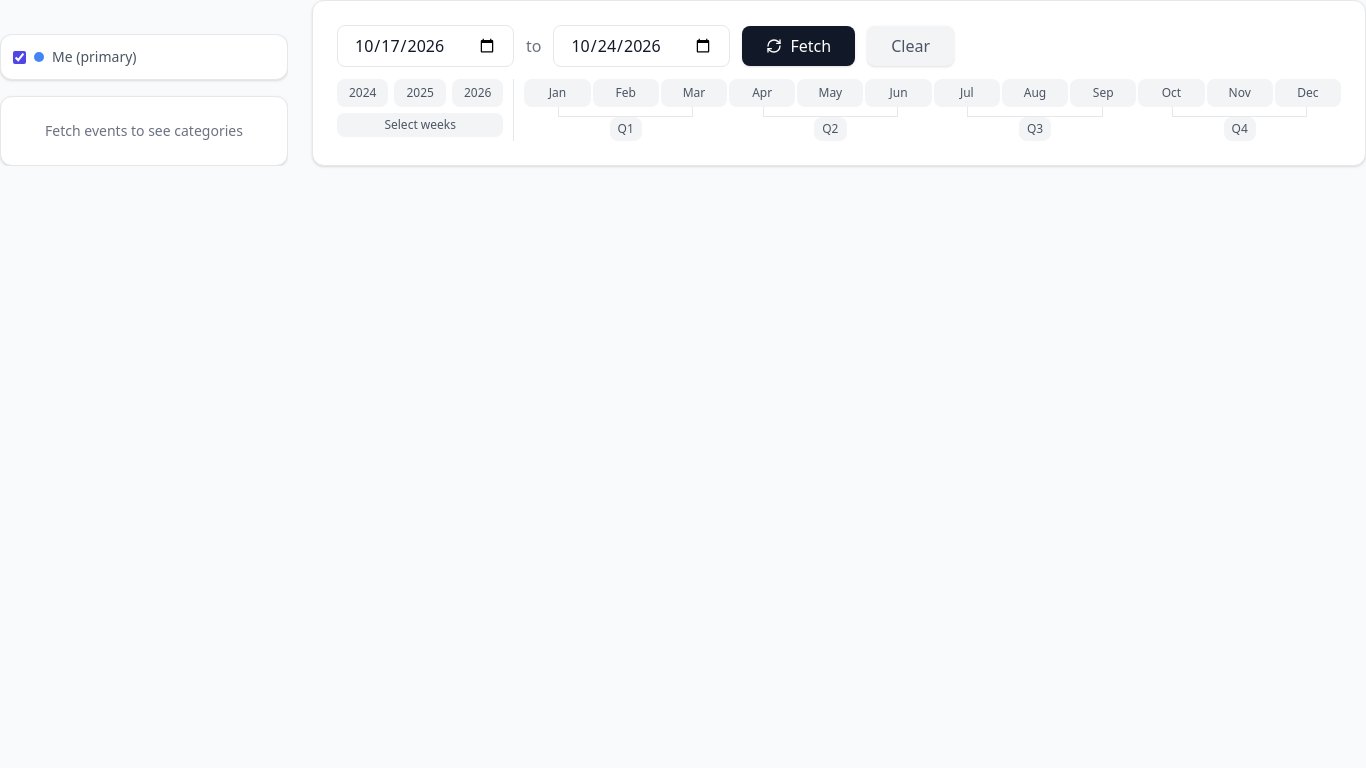
Test case: Dashboard › shows the fetched events with totals, categories and authors
Step 1. Click the button "Fetch" → click(799, 46), box [742,26,855,66]
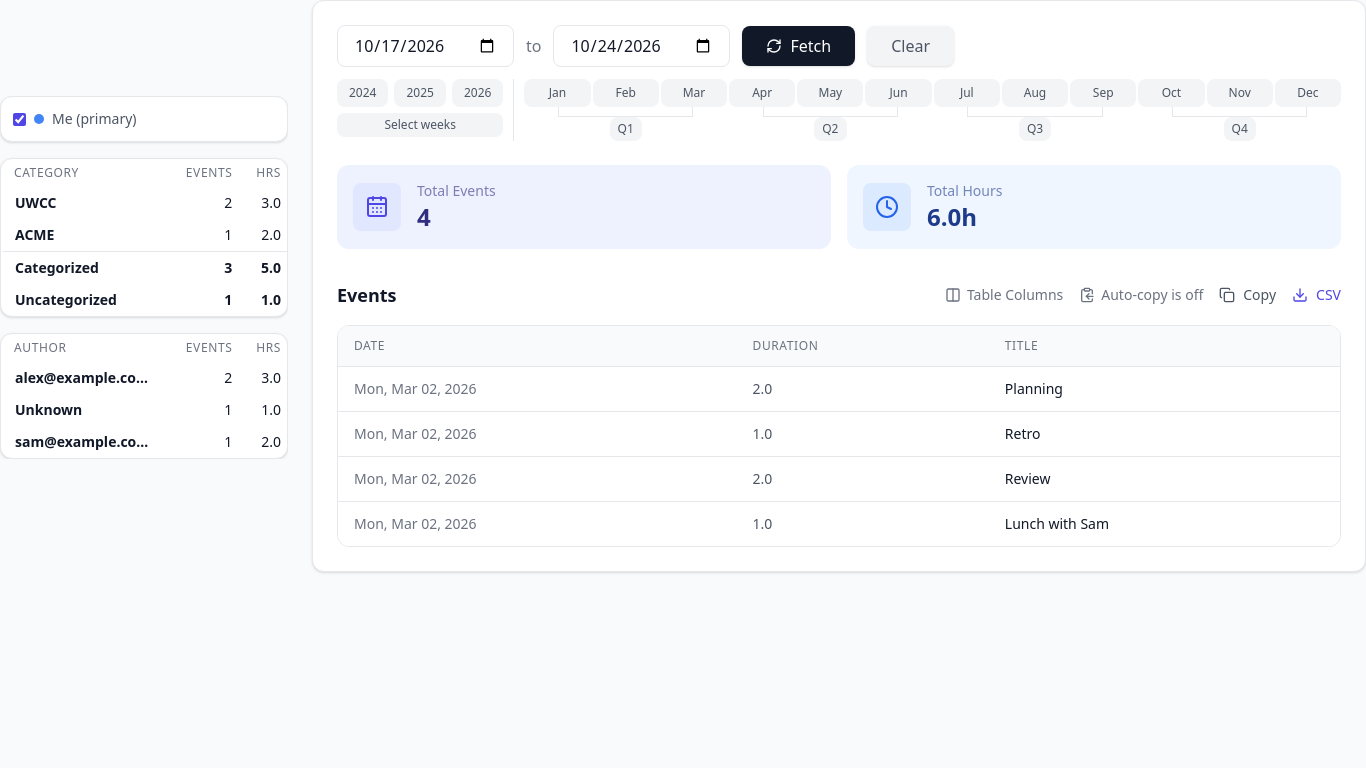
expect the text "Planning" is shown: met, box [989,366,1340,412]
expect the text "Lunch with Sam" is shown: met, box [989,502,1340,546]
expect the text "4" is shown: met, box [417,200,431,233]
